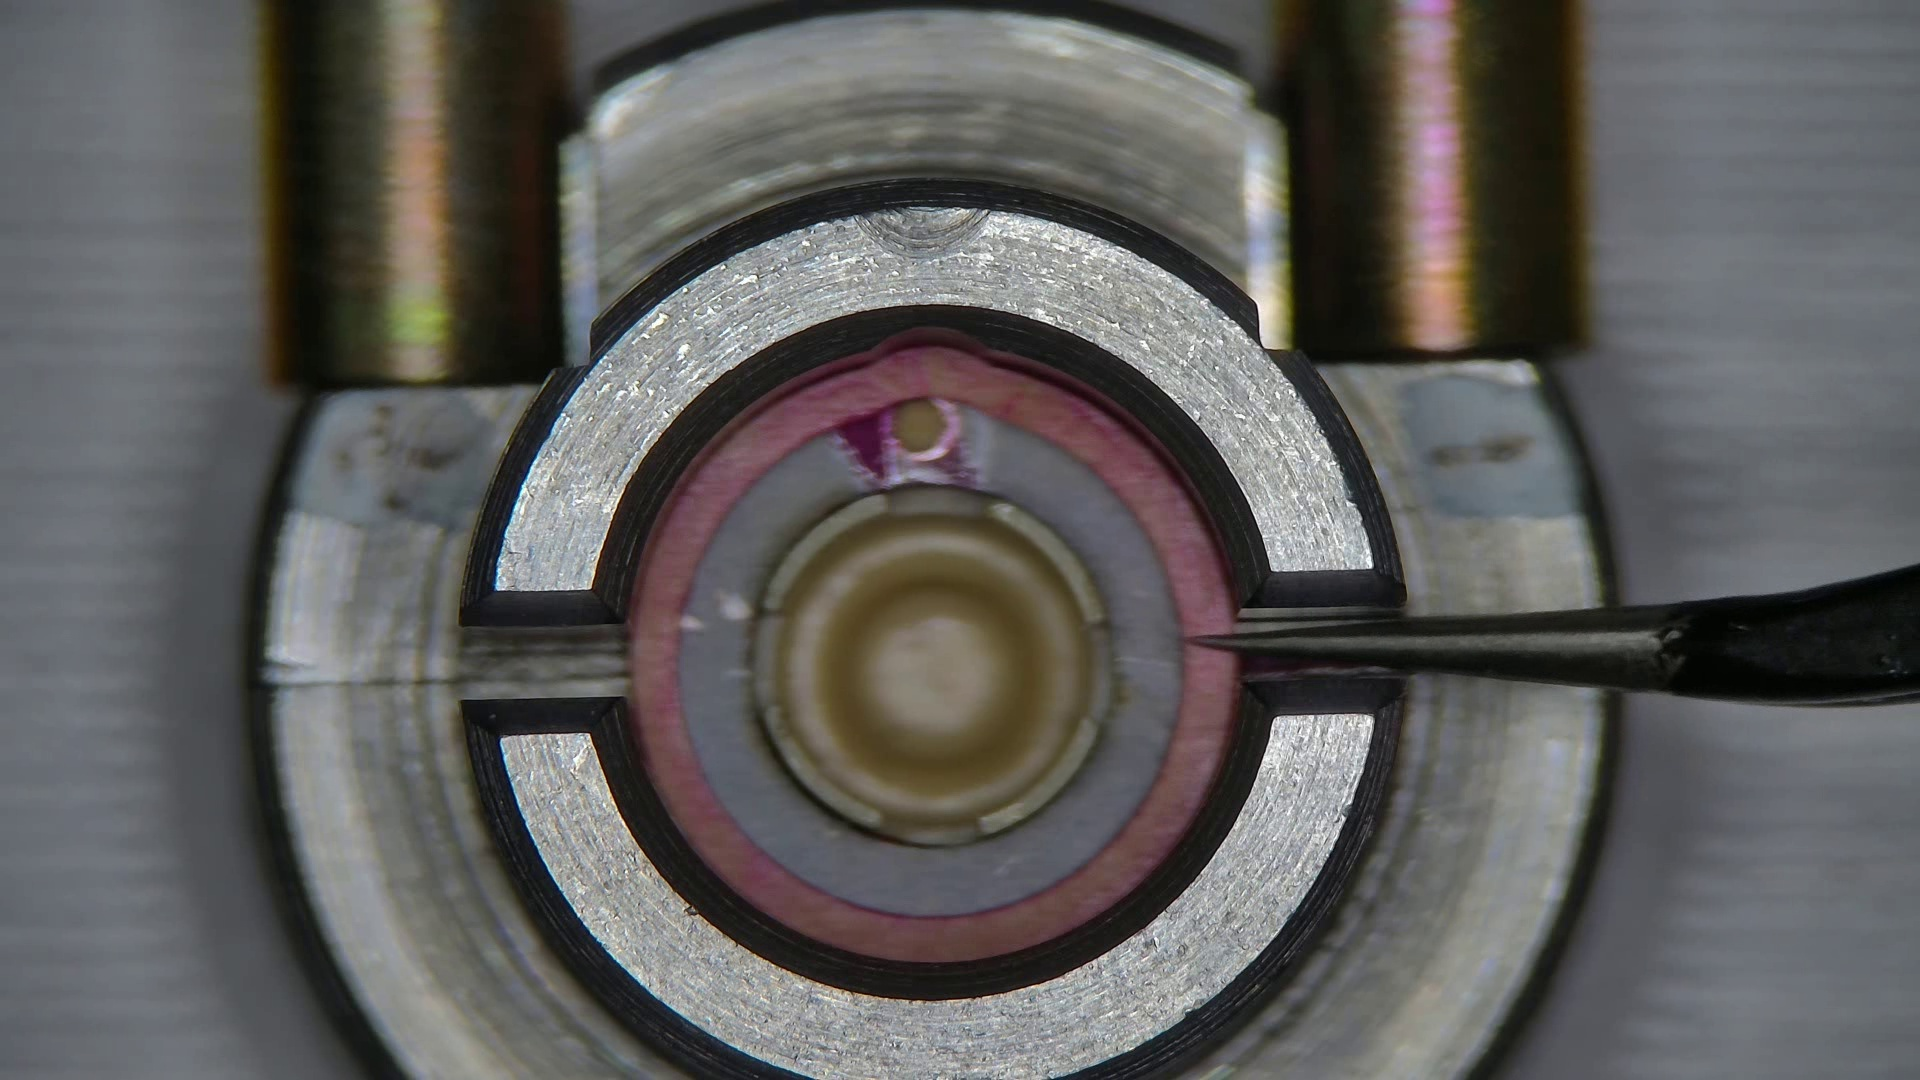GreyOring: (630, 343, 1236, 963)
YellowOring: (683, 400, 1179, 914)
